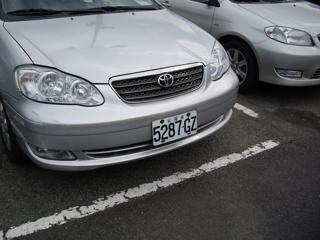plate: (150, 115, 198, 140)
